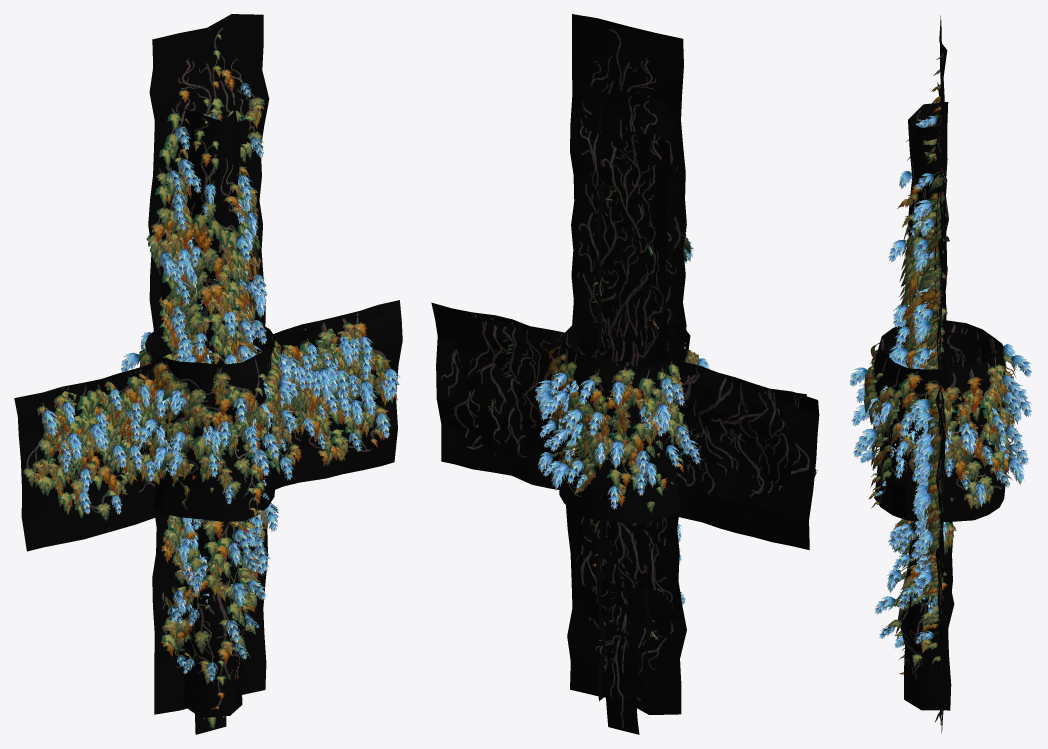
File: IvyFlowering_B 1.FBX
The picture shows the model from 3 angles, left to right: view 1: azimuth 30°, elevation 25°; view 2: azimuth 150°, elevation 25°; view 3: azimuth 270°, elevation 25°; orthographic projection. The views are drawn at different scales.
Parts seen in each view (by area): view 1: IvyWallWD_1_FB, IvyCyllUW_2_FB, IvyWallU_2_FB, IvyCyllU_FB, IvyWallWD_2_FB, IvyCyllD_FB, IvyWallD_1_FB, IvyWallU_1_FB, IvyCyllUW_1_FB, IvyWallD_2_FB, IvyWallU_3_FB, IvyWallCD_1_FB; view 2: IvyWallWD_1_FB, IvyWallU_2_FB, IvyCyllUW_2_FB, IvyWallWD_2_FB, IvyWallD_1_FB, IvyWallU_1_FB, IvyWallU_3_FB, IvyWallD_6_FB, IvyCyllUW_1_FB, IvyWallD_2_FB, IvyCyllD_FB, IvyWallU_4_FB (+4 smaller); view 3: IvyCyllUW_2_FB, IvyCyllD_FB, IvyCyllU_FB, IvyWallWD_1_FB, IvyWallU_2_FB, IvyWallU_1_FB, IvyCyllUW_1_FB, IvyWallD_1_FB, IvyWallWD_2_FB, IvyWallU_3_FB, IvyWallCD_1_FB.
Boxes of the visible parts, x1,y1,x2,y2 form: IvyWallWD_1_FB: (14,300,402,551); IvyCyllUW_2_FB: (121,325,298,521); IvyWallU_2_FB: (146,14,269,362); IvyCyllU_FB: (168,97,261,364); IvyWallWD_2_FB: (34,310,385,526); IvyCyllD_FB: (171,518,266,718); IvyWallD_1_FB: (152,364,278,714); IvyWallU_1_FB: (159,100,267,361); IvyCyllUW_1_FB: (151,338,279,495); IvyWallD_2_FB: (161,335,258,617); IvyWallU_3_FB: (174,119,257,363); IvyWallCD_1_FB: (141,340,300,414); IvyWallWD_1_FB: (431,302,819,549); IvyWallU_2_FB: (570,14,693,381); IvyCyllUW_2_FB: (535,323,709,523); IvyWallWD_2_FB: (449,316,806,518); IvyWallD_1_FB: (566,339,686,714); IvyWallU_1_FB: (580,81,677,366); IvyWallU_3_FB: (593,121,670,363); IvyWallD_6_FB: (606,579,640,734); IvyCyllUW_1_FB: (558,337,689,512); IvyWallD_2_FB: (577,337,674,639); IvyCyllD_FB: (590,347,682,709); IvyWallU_4_FB: (612,89,642,341); IvyCyllUW_2_FB: (849,320,1032,521); IvyCyllD_FB: (874,343,956,710); IvyCyllU_FB: (888,102,949,369); IvyWallWD_1_FB: (912,381,946,594); IvyWallU_2_FB: (911,15,948,385); IvyWallU_1_FB: (911,82,947,368); IvyCyllUW_1_FB: (868,332,1013,501); IvyWallD_1_FB: (911,383,946,724); IvyWallWD_2_FB: (915,305,946,554); IvyWallU_3_FB: (910,158,946,369); IvyWallCD_1_FB: (909,396,940,431).
Size of the model in its own units: 183 by 322 by 78.57.
